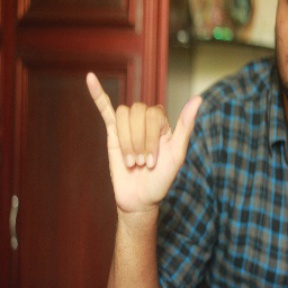J: (84, 67, 204, 209)
